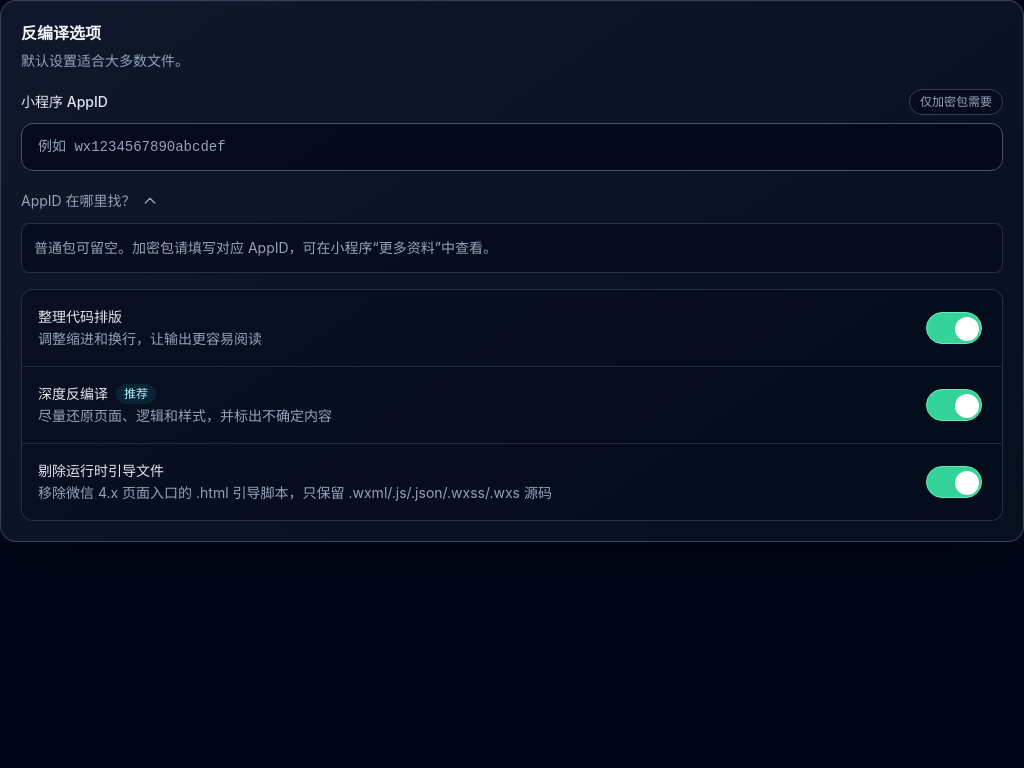
Test: ConfigPanel › provides full-size touch targets for switches and AppID clearing
Expected: the text "仅加密包需要" is shown, top-left (909, 89), bottom-right (1003, 115)
Expected: the number of switches is 3, top-left (922, 304), bottom-right (986, 352); top-left (922, 381), bottom-right (986, 429); top-left (922, 458), bottom-right (986, 506)
Click the heading "AppID 在哪里找？": (89, 200) top-left (21, 192), bottom-right (158, 209)
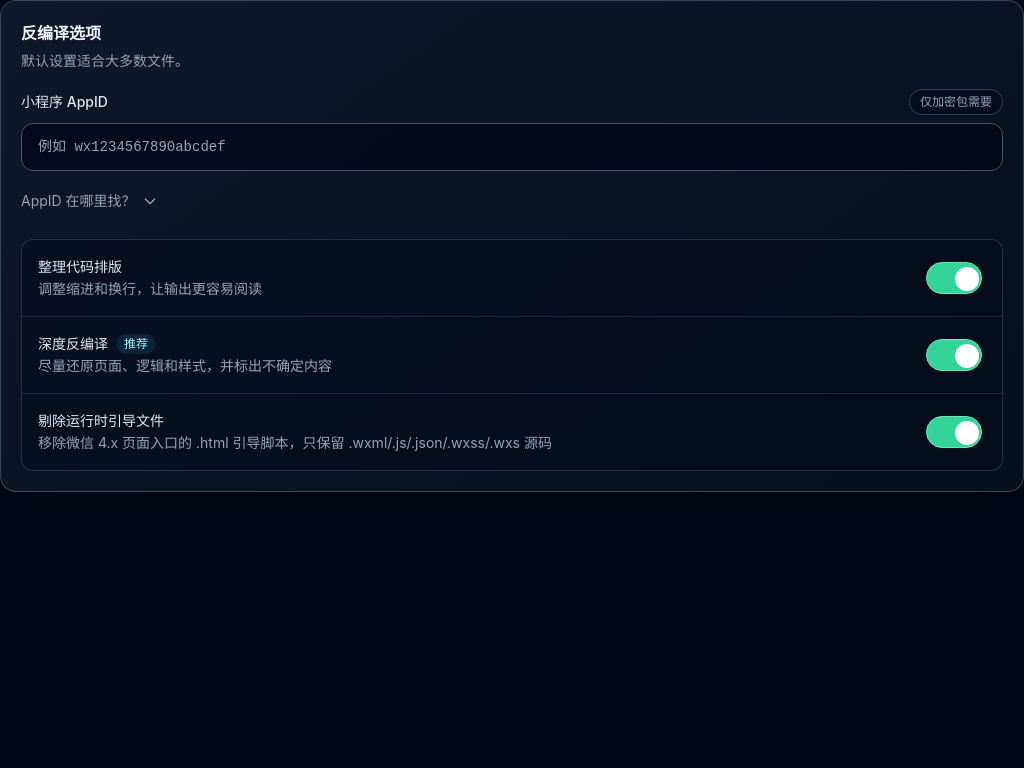
Expected: the text "AppID 在哪里找？" does not have attribute open, top-left (21, 192), bottom-right (158, 209)
In the field labelled "小程序 AppID": (512, 147) top-left (21, 123), bottom-right (1003, 171), type "wx0123456789abcdef"
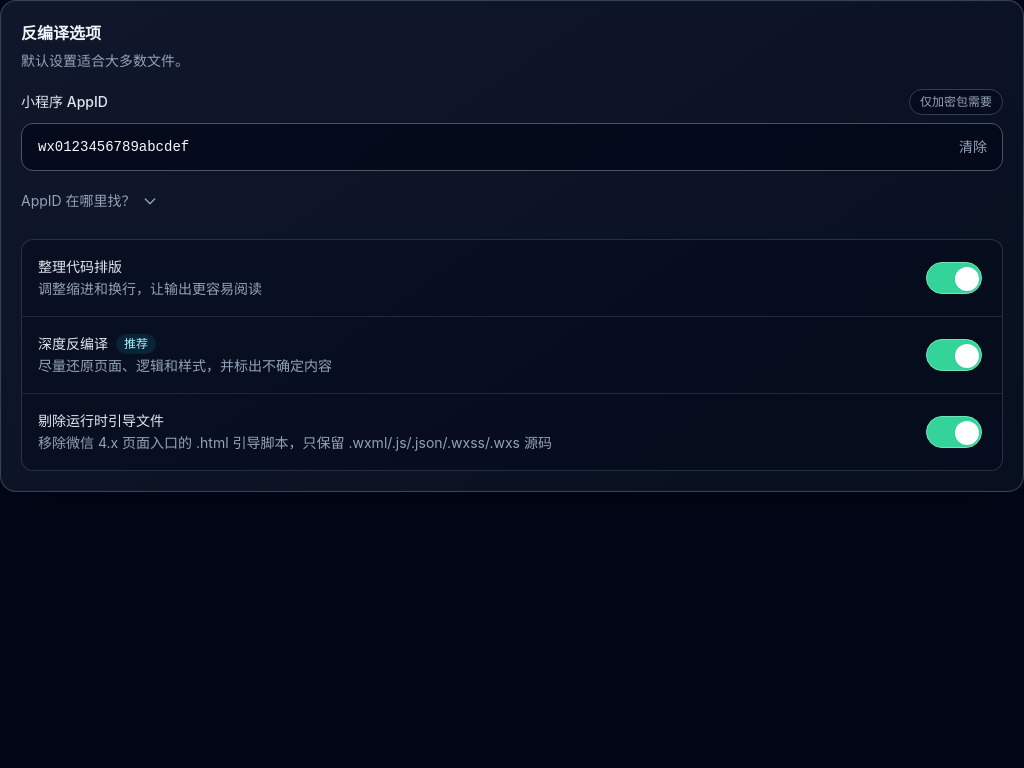
Expected: the text "AppID 在哪里找？" does not have attribute open, top-left (21, 192), bottom-right (158, 209)
Click the button with aria-label "清除 AppID": (973, 147) top-left (943, 123), bottom-right (1003, 171)
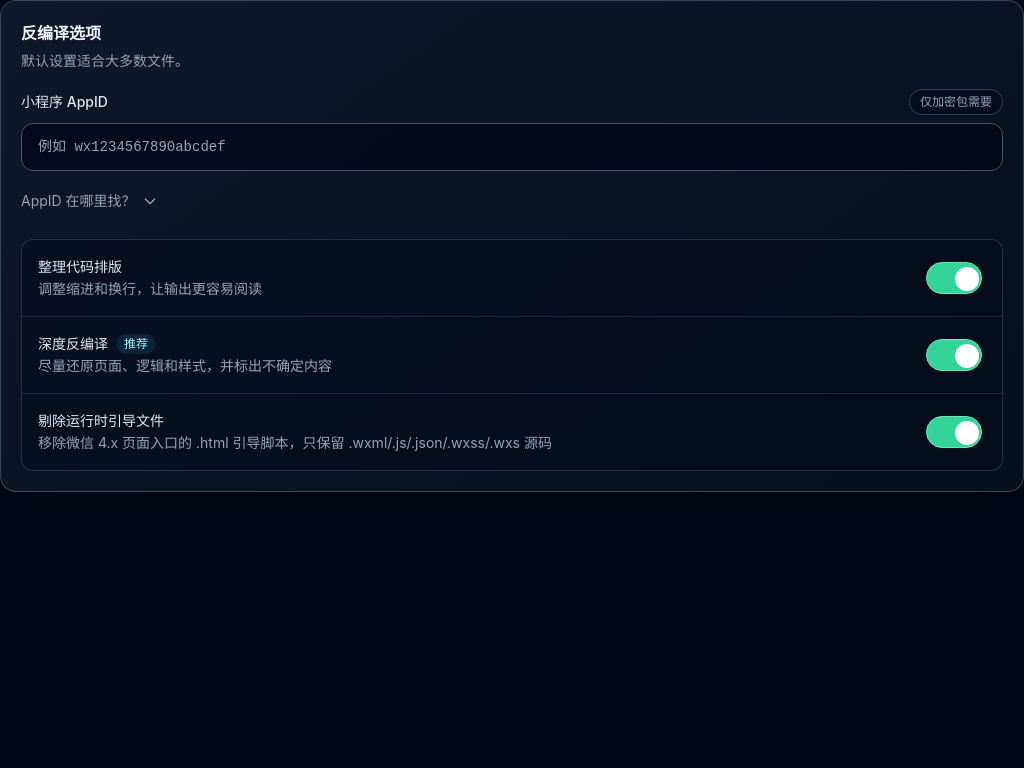
Expected: the field labelled "小程序 AppID" is empty, top-left (21, 123), bottom-right (1003, 171)
